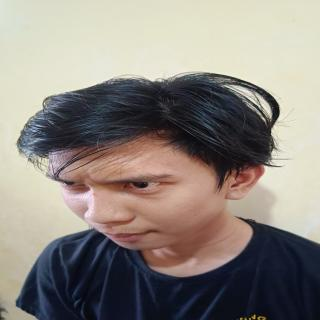Marah: (47, 133, 234, 253)
